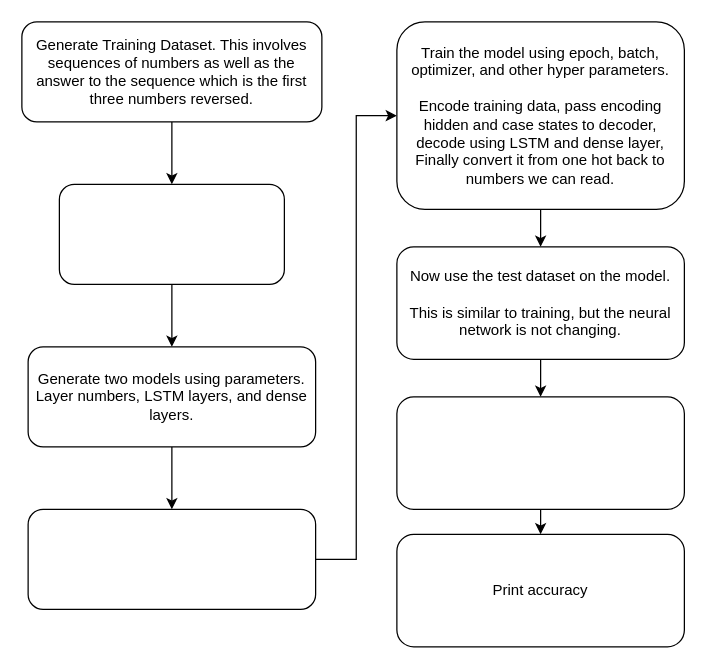
This 706x669 diagram has some shape labels left out. The centre of each missing label's shape, as x and y in pixels:
Configure the optimizer and other parts of the model.: point 171,558
Generate Test Dataset. Similar structure to training data: point 171,233
Measure amount of correct answers and print samples.: point 540,452
